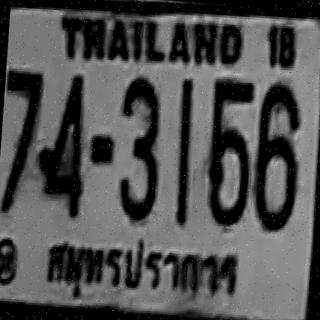N01: (170, 77, 195, 224)
N03: (112, 73, 164, 222)
N04: (33, 69, 90, 215)
N05: (203, 76, 256, 227)
N06: (250, 80, 304, 232)
N07: (0, 66, 44, 214)
P57: (40, 226, 246, 312)
